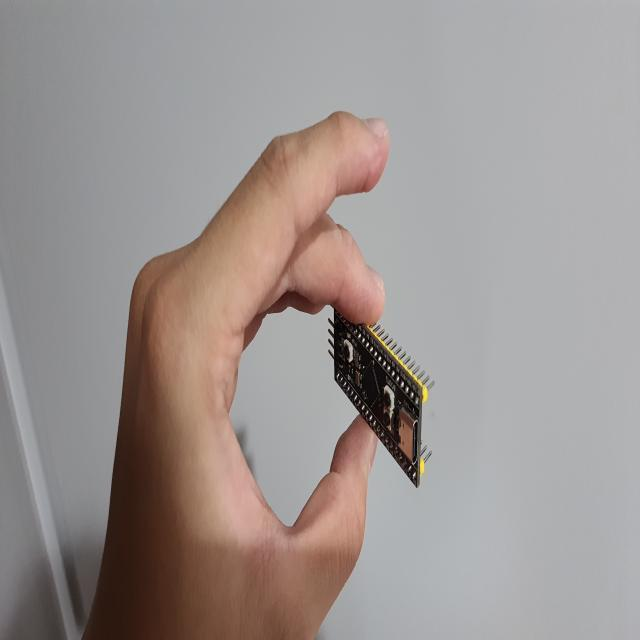STM32: (329, 312, 433, 488)
